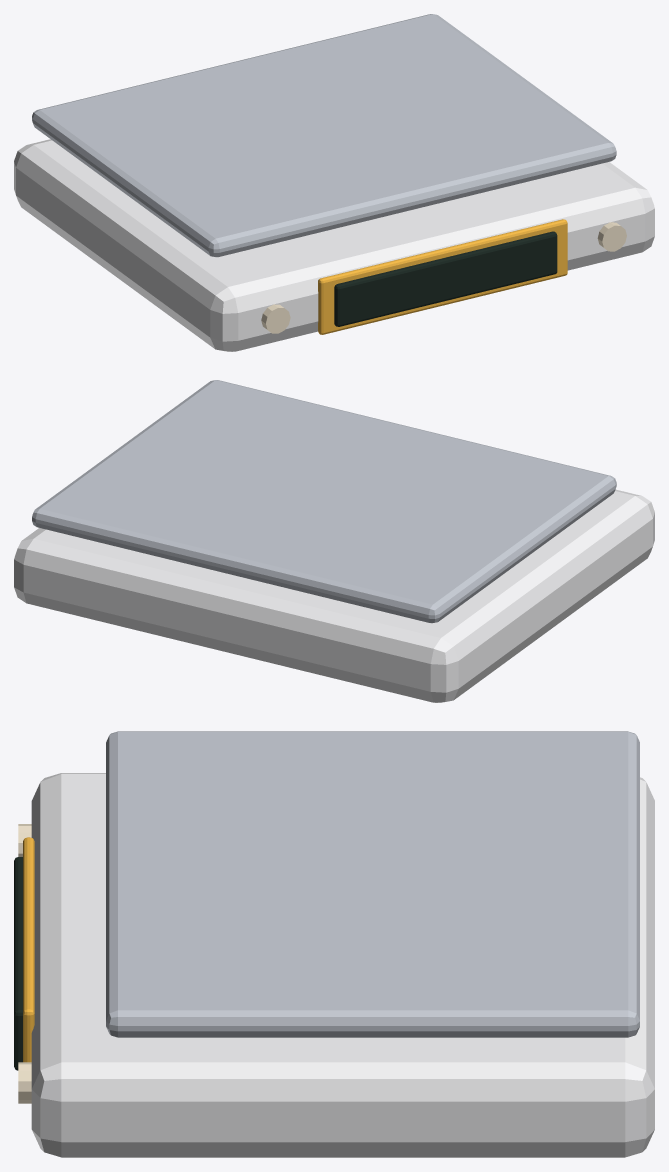
The model's file is kitchen_scale.glb.
3 views of the same model, one above another, from view 1: azimuth 30°, elevation 25°; view 2: azimuth 150°, elevation 25°; view 3: azimuth 270°, elevation 25° (orthographic). The views are drawn at different scales.
Visible parts, largest first — view 1: plate, base, display, displayRim, btn-1, btn1; view 2: plate, base; view 3: plate, base, displayRim, display.
Part boxes in pixels (bbox=[...]): plate: bbox=[32, 14, 616, 257]; base: bbox=[14, 139, 654, 351]; display: bbox=[334, 231, 557, 326]; displayRim: bbox=[318, 219, 567, 334]; btn-1: bbox=[261, 304, 290, 333]; btn1: bbox=[597, 222, 626, 251]; plate: bbox=[32, 380, 616, 623]; base: bbox=[14, 489, 654, 702]; plate: bbox=[106, 731, 639, 1037]; base: bbox=[31, 773, 654, 1157]; displayRim: bbox=[23, 837, 34, 1062]; display: bbox=[14, 857, 22, 1070].
Size of the model in its own units: 0.5 by 0.105 by 0.432.
